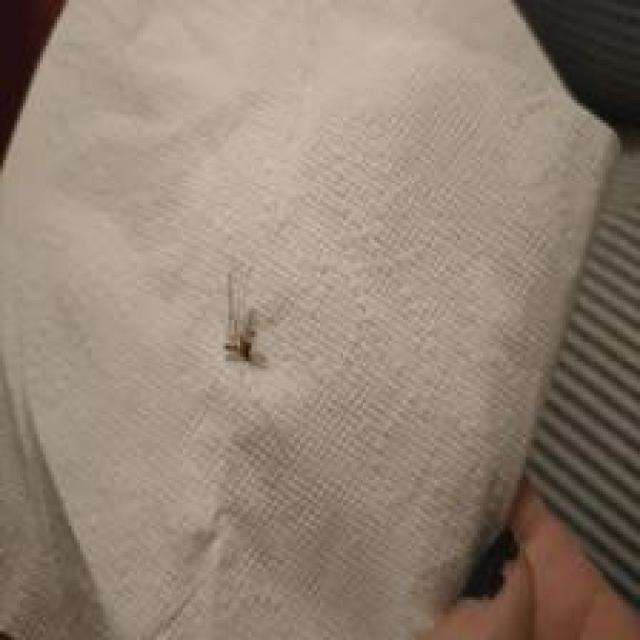Culex: (222, 267, 258, 362)
